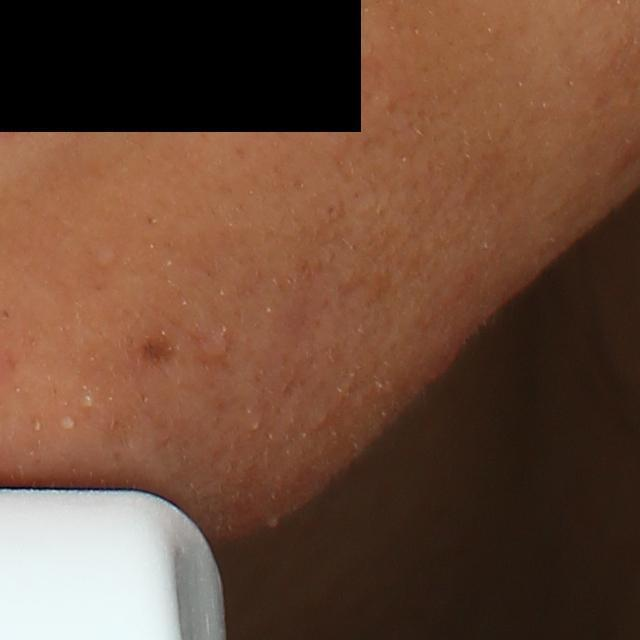comedo: (89, 248, 119, 268), (77, 392, 97, 411)
nevus: (140, 338, 179, 365)
